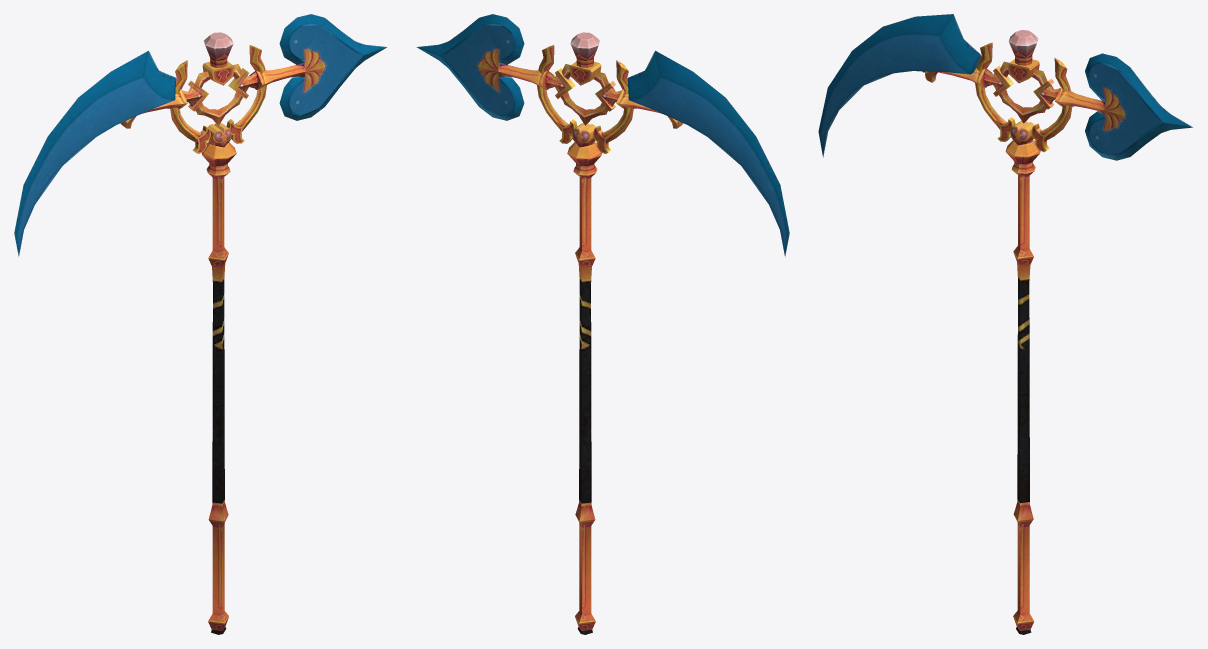
File: Weapon09_SKEL.FBX
3 renders of one model, left to right at view 1: azimuth 30°, elevation 25°; view 2: azimuth 150°, elevation 25°; view 3: azimuth 330°, elevation 25°, orthographic.
Parts seen in each view (by area): view 1: Weapon09_SKEL; view 2: Weapon09_SKEL; view 3: Weapon09_SKEL.
Part boxes in pixels (x1,y1,x2,y2): Weapon09_SKEL: (14, 14, 387, 634); Weapon09_SKEL: (416, 14, 789, 634); Weapon09_SKEL: (818, 14, 1192, 634).
Bounding box in the file's own units: 141 × 218 × 12.27.
